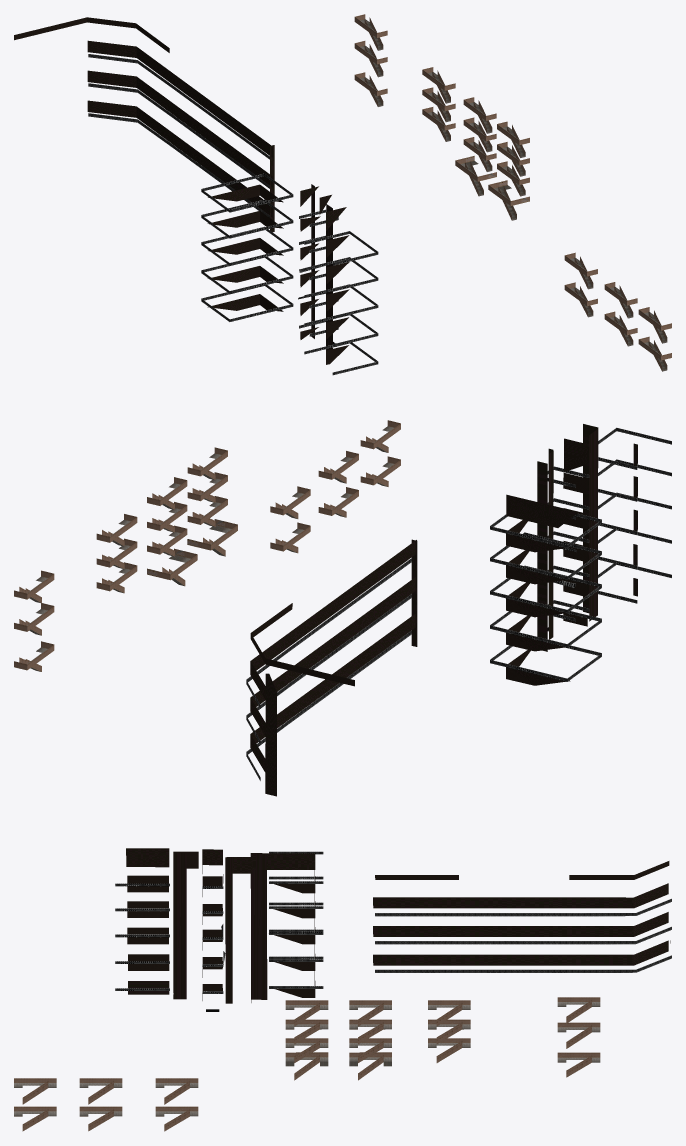
The model's file is ebeach_alphabits.obj.
3 views of the same model, one above another, from view 1: azimuth 30°, elevation 25°; view 2: azimuth 150°, elevation 25°; view 3: azimuth 270°, elevation 25° (orthographic). The views are drawn at different scales.
Visible parts, largest first — view 1: ebeach_alphabits; view 2: ebeach_alphabits; view 3: ebeach_alphabits.
Boxes of the visible parts, x1=… form: ebeach_alphabits: x1=14, y1=14, x2=671, y2=375; ebeach_alphabits: x1=14, y1=420, x2=671, y2=796; ebeach_alphabits: x1=14, y1=848, x2=671, y2=1131.
Bounding box in the file's own units: 57.63 × 29.29 × 109.
